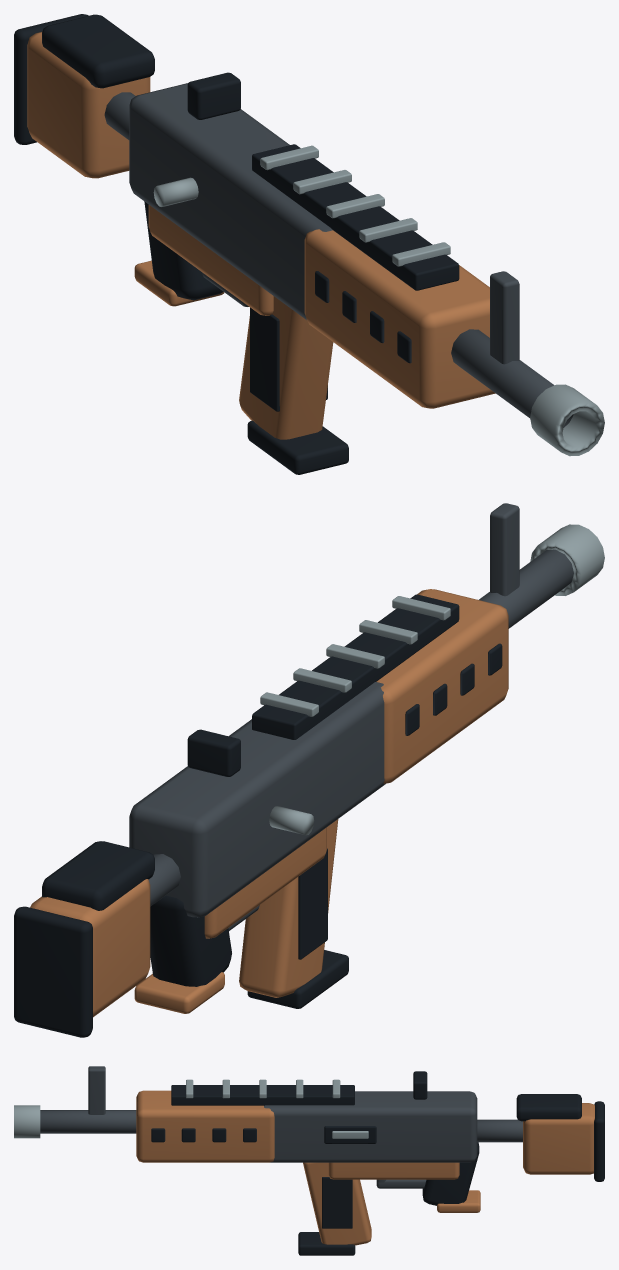
The picture shows the model from 3 angles, top to bottom: view 1: azimuth 30°, elevation 25°; view 2: azimuth 150°, elevation 25°; view 3: azimuth 270°, elevation 25°; orthographic projection. The views are drawn at different scales.
Visible parts, largest first — view 1: ak47_ak47 painted furniture, ak47_Cerakote graphite, ak47_Recesses and rubber, ak47_Machined edges; view 2: ak47_Recesses and rubber, ak47_Cerakote graphite, ak47_ak47 painted furniture, ak47_Machined edges; view 3: ak47_ak47 painted furniture, ak47_Cerakote graphite, ak47_Recesses and rubber, ak47_Machined edges.
Part boxes in pixels (x1,y1,x2,y2): ak47_ak47 painted furniture: (27,32,495,439); ak47_Cerakote graphite: (104,83,573,427); ak47_Recesses and rubber: (14,14,459,474); ak47_Machined edges: (153,145,604,456); ak47_Recesses and rubber: (14,594,502,1037); ak47_Cerakote graphite: (129,503,573,930); ak47_ak47 painted furniture: (30,589,508,1017); ak47_Machined edges: (260,524,604,835); ak47_ak47 painted furniture: (136,1090,594,1245); ak47_Cerakote graphite: (40,1066,522,1188); ak47_Recesses and rubber: (151,1071,604,1255); ak47_Machined edges: (14,1079,368,1138).
Bounding box in the file's own units: 0.1444 × 0.3672 × 1.08.
